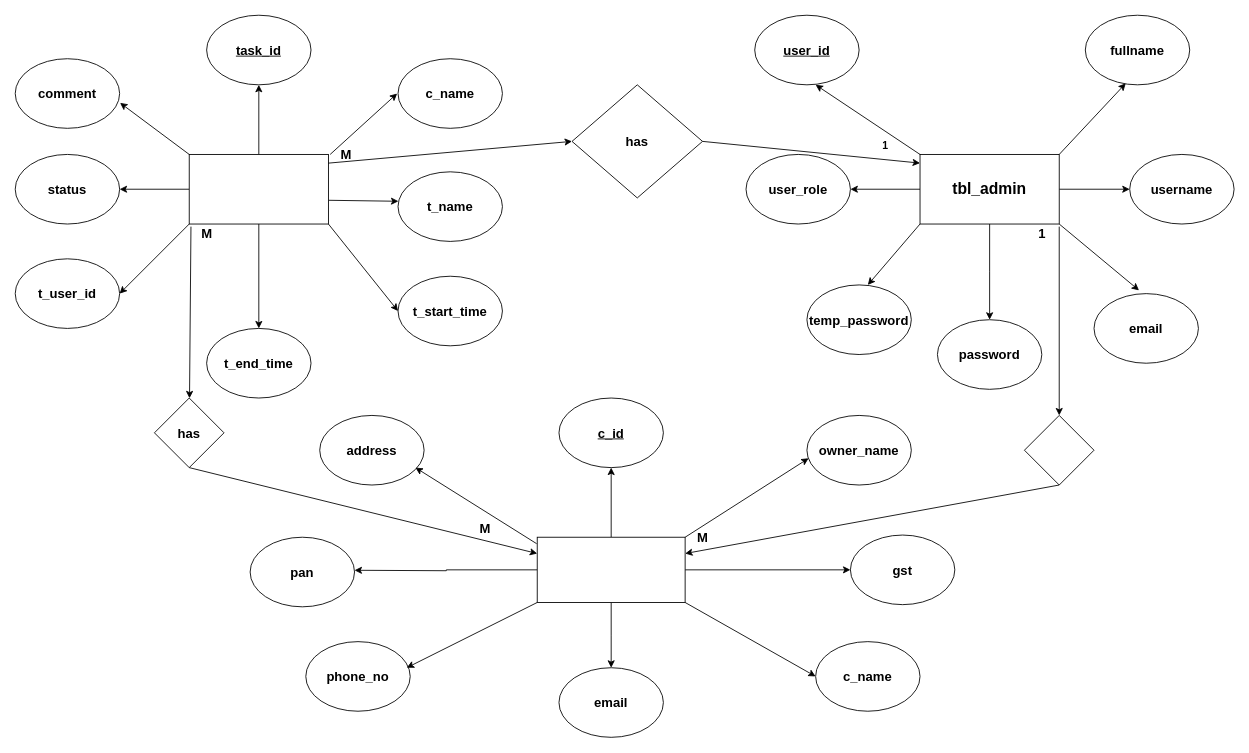
Some shapes in this 1249 by 753 pixel diagram are drawn without their labels. The box of each missing label's shape, as (x1, y1, x2, y2) in pixels:
have: (1024, 415, 1094, 485)
task_info: (188, 154, 328, 224)
tbl_company: (536, 536, 685, 602)
